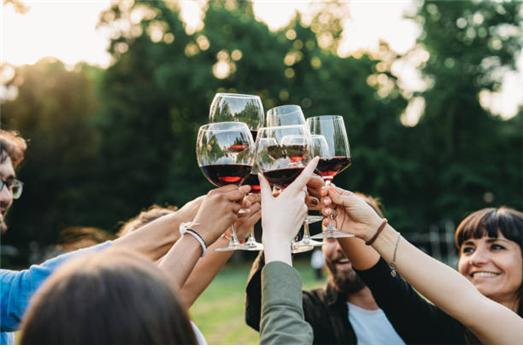alcohol: (206, 92, 266, 252), (196, 124, 247, 256), (305, 117, 356, 242), (255, 126, 301, 199)
